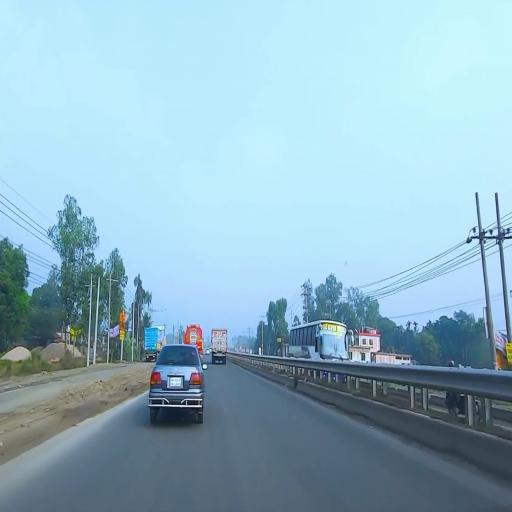bus: (288, 322, 354, 361)
car: (148, 344, 208, 424)
truck: (213, 327, 228, 366), (145, 326, 160, 364), (185, 324, 205, 351)
